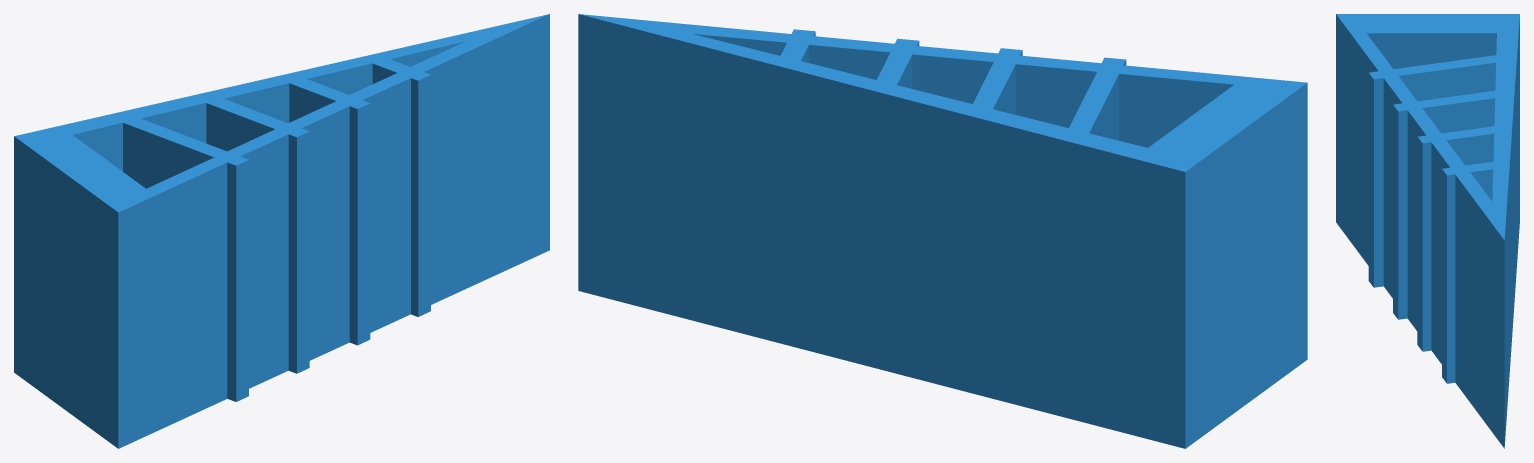
The model's file is finger_r.glb.
The picture shows the model from 3 angles, left to right: view 1: azimuth 30°, elevation 25°; view 2: azimuth 150°, elevation 25°; view 3: azimuth 270°, elevation 25°; orthographic projection. The views are drawn at different scales.
Parts seen in each view (by area): view 1: fin-ray finger (TPU); view 2: fin-ray finger (TPU); view 3: fin-ray finger (TPU).
Boxes of the visible parts, x1,y1,x2,y2 form: fin-ray finger (TPU): [14, 14, 549, 448]; fin-ray finger (TPU): [578, 14, 1307, 448]; fin-ray finger (TPU): [1336, 14, 1519, 448].
Bounding box in the file's own units: 0.07 × 0.03 × 0.024.
